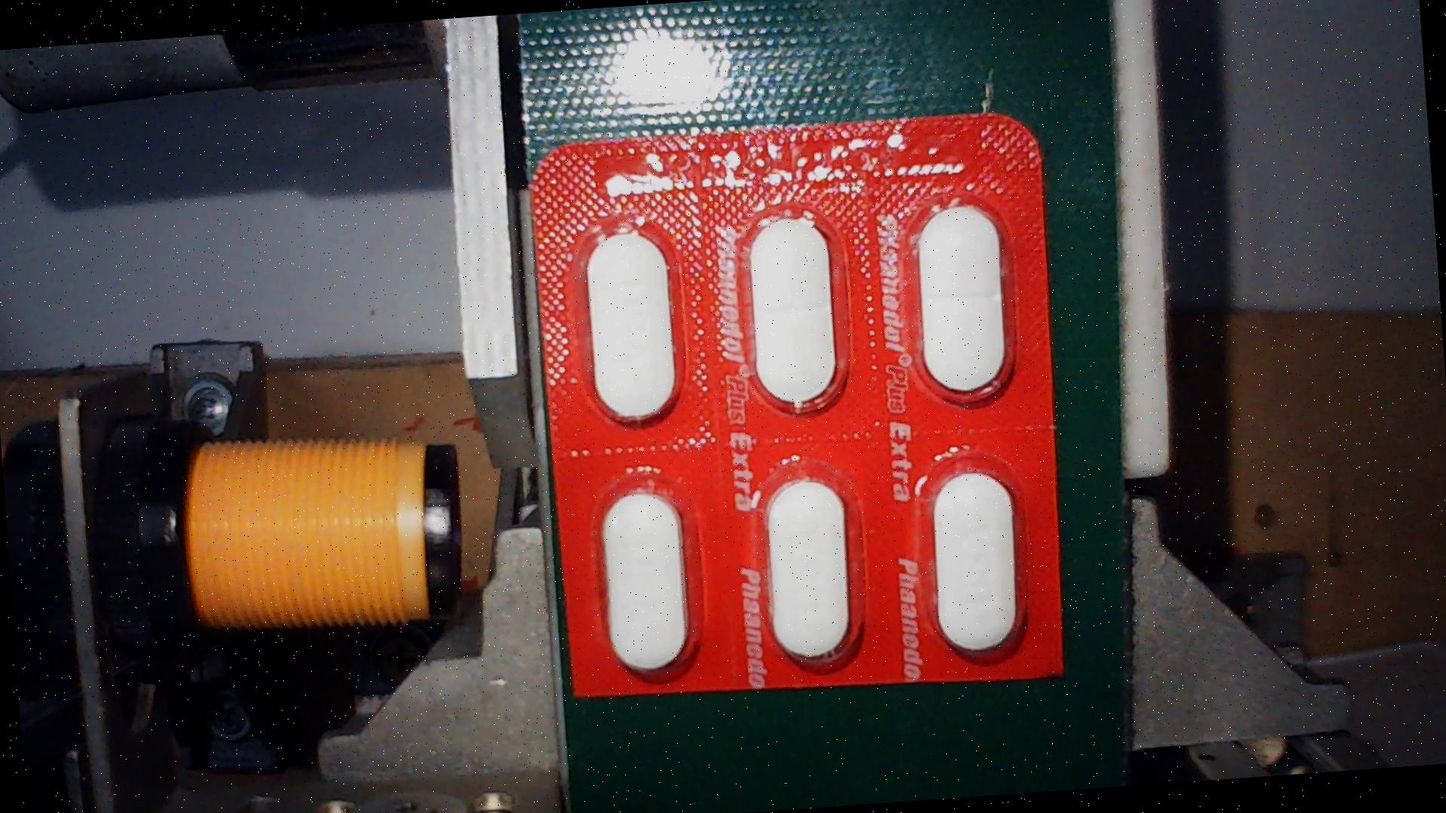Full: (732, 203, 857, 425), (902, 192, 1027, 414), (748, 461, 873, 682), (920, 449, 1045, 670), (587, 469, 712, 690), (572, 208, 697, 429)
